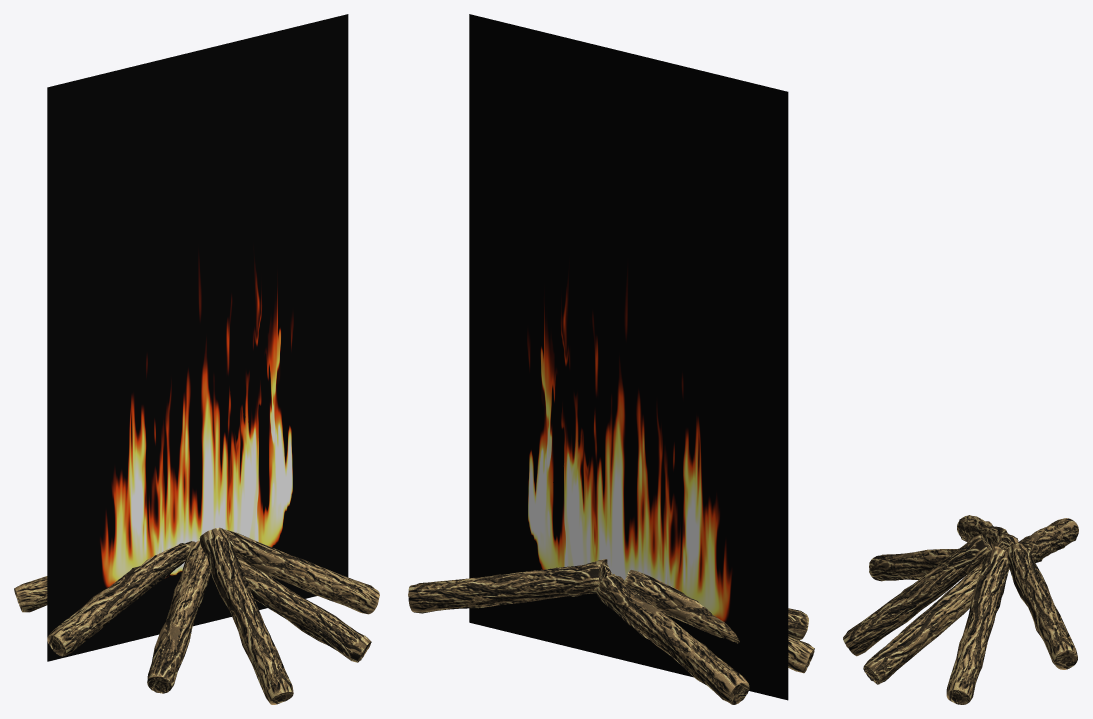
File: FOGATA FOR SKET.obj
3 renders of one model, left to right at view 1: azimuth 30°, elevation 25°; view 2: azimuth 150°, elevation 25°; view 3: azimuth 270°, elevation 25°, orthographic. The views are drawn at different scales.
Parts seen in each view (by area): view 1: Plane_Material.001, Cylinder.003_Material.002, Cylinder.004_Material.002, Cylinder.002_Material.002, Cylinder.001_Material.002, Cylinder.005_Material.002, Cylinder.006_Material.002; view 2: Plane_Material.001, Cylinder.007_Material.002, Cylinder.006_Material.002, Cylinder.004_Material.002; view 3: Cylinder.003_Material.002, Cylinder.002_Material.002, Cylinder.005_Material.002, Cylinder.007_Material.002, Cylinder.001_Material.002, Cylinder.006_Material.002, Cylinder.004_Material.002.
Boxes of the visible parts, x1,y1,x2,y2 form: Plane_Material.001: [47, 14, 348, 661]; Cylinder.003_Material.002: [199, 527, 293, 704]; Cylinder.004_Material.002: [47, 541, 195, 656]; Cylinder.002_Material.002: [223, 529, 379, 614]; Cylinder.001_Material.002: [147, 540, 210, 693]; Cylinder.005_Material.002: [236, 556, 371, 662]; Cylinder.006_Material.002: [14, 576, 47, 612]; Plane_Material.001: [469, 14, 788, 700]; Cylinder.007_Material.002: [408, 563, 606, 613]; Cylinder.006_Material.002: [596, 574, 749, 704]; Cylinder.004_Material.002: [623, 570, 814, 673]; Cylinder.003_Material.002: [843, 533, 994, 656]; Cylinder.002_Material.002: [946, 548, 1009, 704]; Cylinder.005_Material.002: [863, 563, 982, 684]; Cylinder.007_Material.002: [1006, 543, 1077, 669]; Cylinder.001_Material.002: [869, 546, 1000, 581]; Cylinder.006_Material.002: [1009, 518, 1078, 562]; Cylinder.004_Material.002: [957, 515, 1018, 551].
Size of the model in its own units: 2.92 by 5.07 by 1.91.
